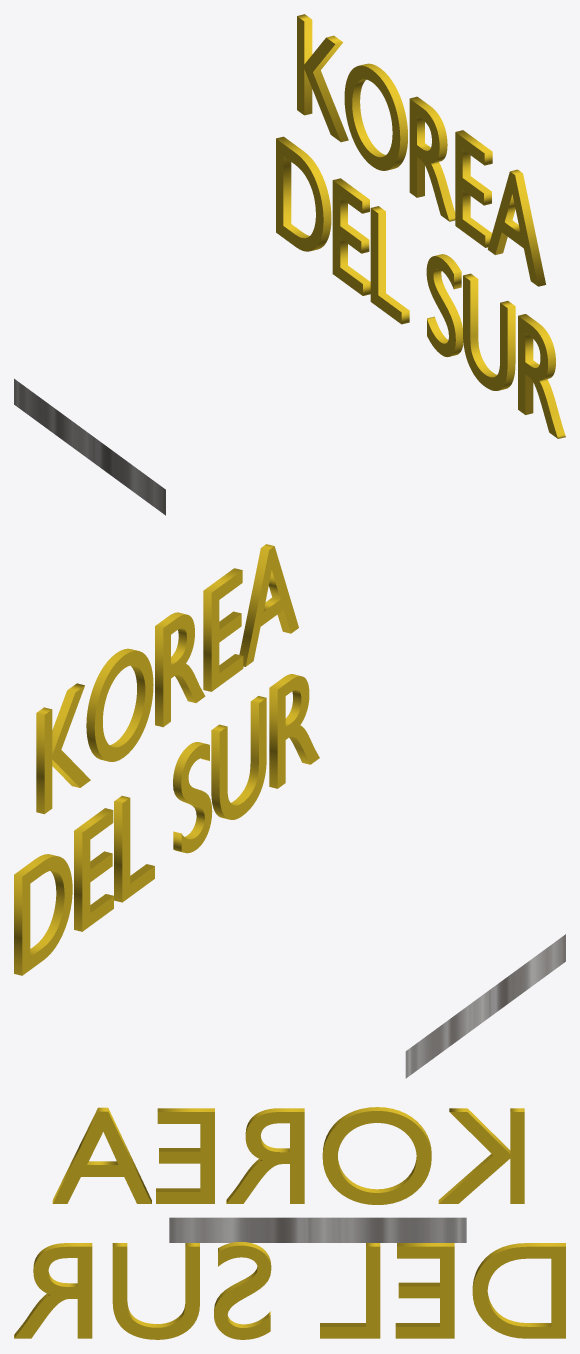
File: bandera de coreadelsur.glb
3 renders of one model, top to bottom at view 1: azimuth 30°, elevation 25°; view 2: azimuth 150°, elevation 25°; view 3: azimuth 270°, elevation 25°, orthographic. The views are drawn at different scales.
Visible parts, largest first — view 1: Text.001, Plane; view 2: Text.001, Plane; view 3: Text.001, Plane.
Part boxes in pixels (x1,y1,x2,y2): Text.001: (276,14,565,438); Plane: (14,378,165,515); Text.001: (14,544,319,975); Plane: (405,934,565,1078); Text.001: (14,1107,565,1339); Plane: (169,1217,466,1242).
Bounding box in the file's own units: 12.17 × 10.58 × 18.56.
Materials: 2 (1 with a texture image).
